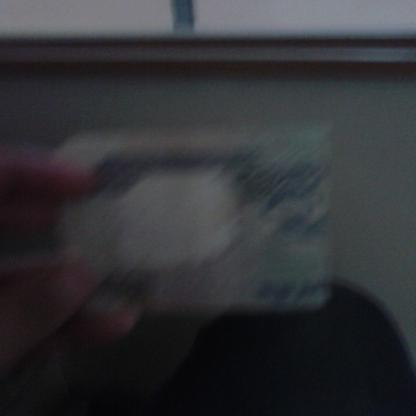Old100Back: (60, 121, 338, 312)
